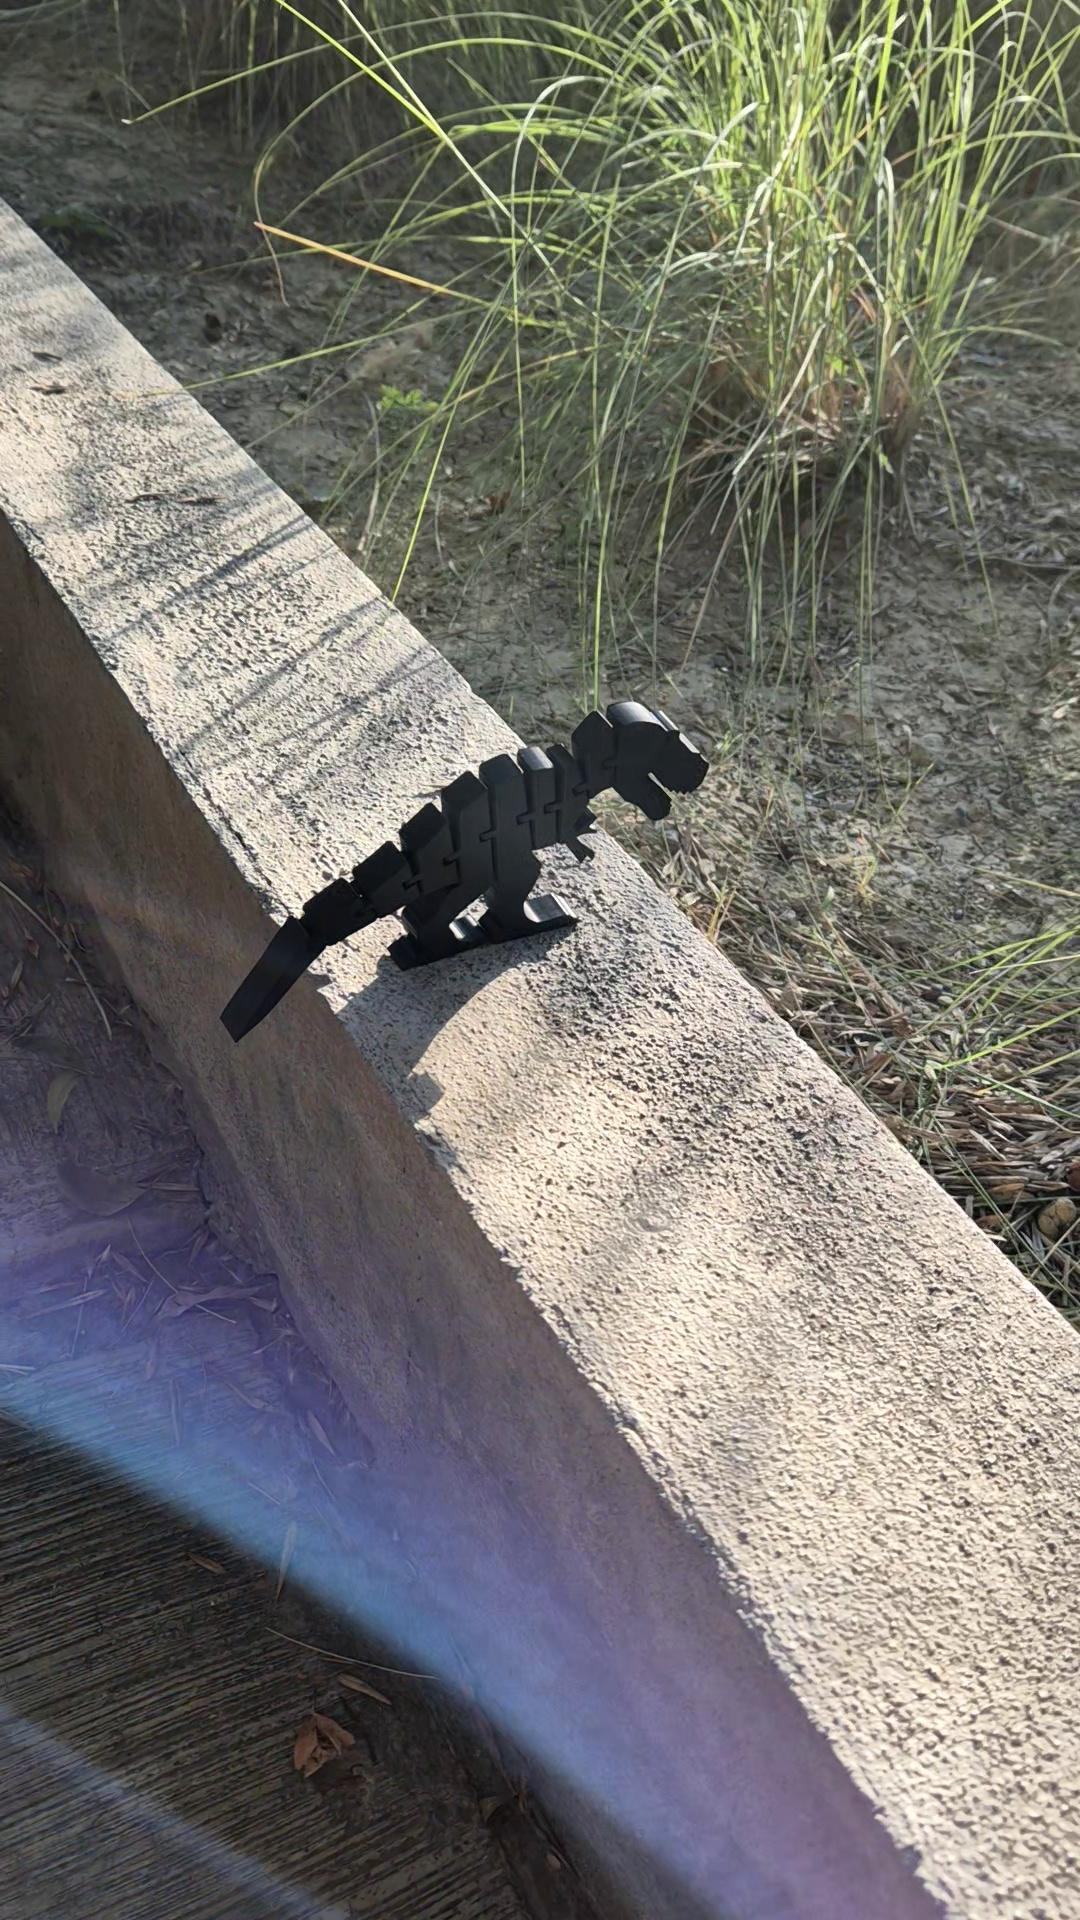dinosaur: (218, 698, 711, 1046)
